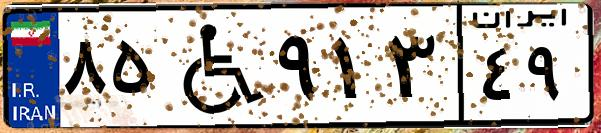1: (330, 28, 385, 110)
3: (385, 28, 445, 110)
4: (475, 38, 525, 113)
5: (110, 28, 158, 98)
8: (57, 26, 110, 100)
9: (270, 28, 330, 110), (525, 38, 570, 115)
ژ (معلولین و جانبازان): (158, 12, 270, 120)
